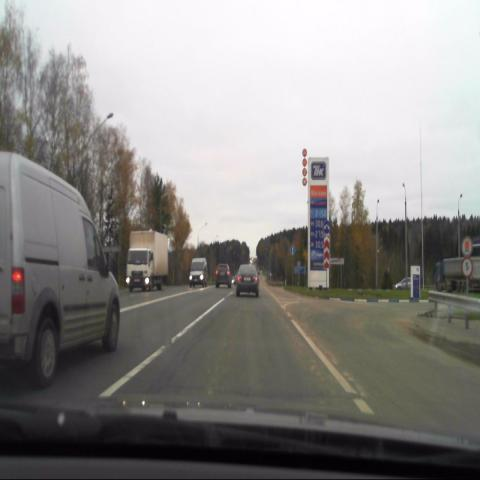3_32: (460, 234, 473, 258)
